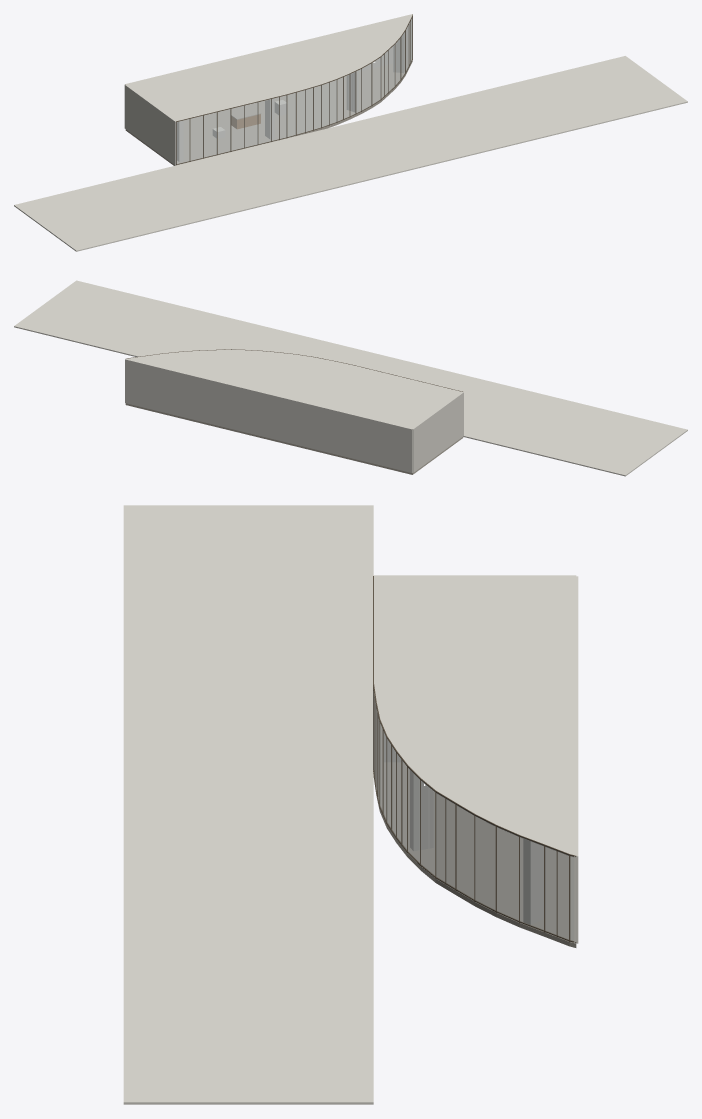
File: upper-east-shop.glb
3 renders of one model, top to bottom at view 1: azimuth 30°, elevation 25°; view 2: azimuth 150°, elevation 25°; view 3: azimuth 270°, elevation 25°, orthographic. The views are drawn at different scales.
Visible parts, largest first — view 1: PROPOSED | neutral external backdrop, PROPOSED | ceiling below office slab, SOURCE REGION | shop floor, PROPOSED | rear / circulation partition.001, PROPOSED | rear / circulation partition, PROPOSED | storefront glazing.001, PROPOSED | storefront glazing.005, PROPOSED | storefront glazing.006, PROPOSED | storefront glazing.003, PROPOSED | storefront glazing.002, PROPOSED | storefront glazing, PROPOSED | storefront glazing.004 (+8 smaller); view 2: PROPOSED | neutral external backdrop, PROPOSED | rear / circulation partition, PROPOSED | ceiling below office slab, PROPOSED | rear / circulation partition.001, SOURCE REGION | shop floor; view 3: PROPOSED | neutral external backdrop, PROPOSED | ceiling below office slab, SOURCE REGION | shop floor, PROPOSED | storefront glazing.026, PROPOSED | storefront glazing.025, SOURCE | structural footprint 72, PROPOSED | storefront glazing.024, SOURCE | structural footprint 37, PROPOSED | storefront glazing.023, PROPOSED | rear / circulation partition, PROPOSED | storefront glazing.020, PROPOSED | storefront glazing.027 (+2 smaller).
Boxes of the visible parts, box(x1,y1,x2,y2) form: PROPOSED | neutral external backdrop: box(14, 56, 687, 251); PROPOSED | ceiling below office slab: box(126, 14, 412, 122); SOURCE REGION | shop floor: box(125, 59, 412, 165); PROPOSED | rear / circulation partition.001: box(124, 84, 176, 165); PROPOSED | rear / circulation partition: box(125, 14, 411, 84); PROPOSED | storefront glazing.001: box(190, 116, 203, 160); PROPOSED | storefront glazing.005: box(244, 103, 257, 147); PROPOSED | storefront glazing.006: box(258, 99, 271, 143); PROPOSED | storefront glazing.003: box(217, 109, 230, 153); PROPOSED | storefront glazing.002: box(204, 112, 216, 157); PROPOSED | storefront glazing: box(177, 119, 189, 163); PROPOSED | storefront glazing.004: box(231, 106, 243, 150); PROPOSED | neutral external backdrop: box(14, 280, 687, 476); PROPOSED | rear / circulation partition: box(125, 359, 412, 472); PROPOSED | ceiling below office slab: box(126, 349, 462, 428); PROPOSED | rear / circulation partition.001: box(412, 392, 463, 472); SOURCE REGION | shop floor: box(125, 403, 463, 474); PROPOSED | neutral external backdrop: box(123, 505, 373, 1104); PROPOSED | ceiling below office slab: box(374, 576, 576, 857); SOURCE REGION | shop floor: box(373, 694, 576, 947); PROPOSED | storefront glazing.026: box(520, 837, 543, 929); PROPOSED | storefront glazing.025: box(497, 827, 518, 920); SOURCE | structural footprint 72: box(523, 828, 545, 924); PROPOSED | storefront glazing.024: box(475, 816, 495, 910); SOURCE | structural footprint 37: box(410, 757, 434, 850); PROPOSED | storefront glazing.023: box(456, 806, 474, 899); PROPOSED | rear / circulation partition: box(574, 576, 578, 943); PROPOSED | storefront glazing.020: box(421, 781, 435, 875); PROPOSED | storefront glazing.027: box(545, 847, 556, 934).
Size of the model in its own units: 56.53 by 4.07 by 18.19.
